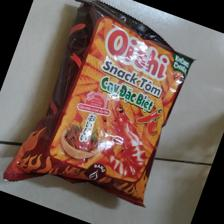Oishi_Cay: (1, 1, 198, 209)
